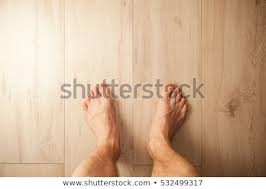Feet: (146, 84, 189, 161), (81, 82, 122, 160)
